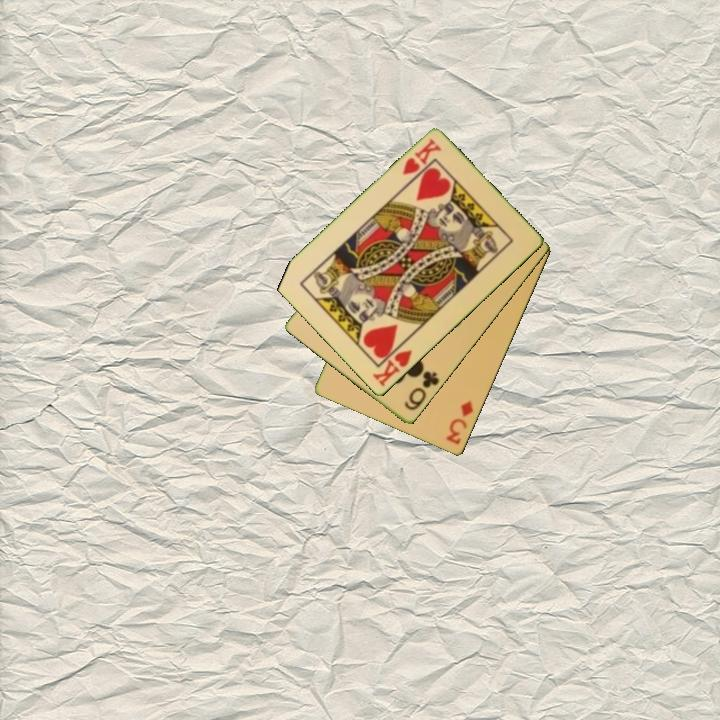3d: (443, 397, 477, 448)
6c: (401, 368, 442, 414)
Kh: (369, 338, 415, 390), (399, 135, 445, 179)
